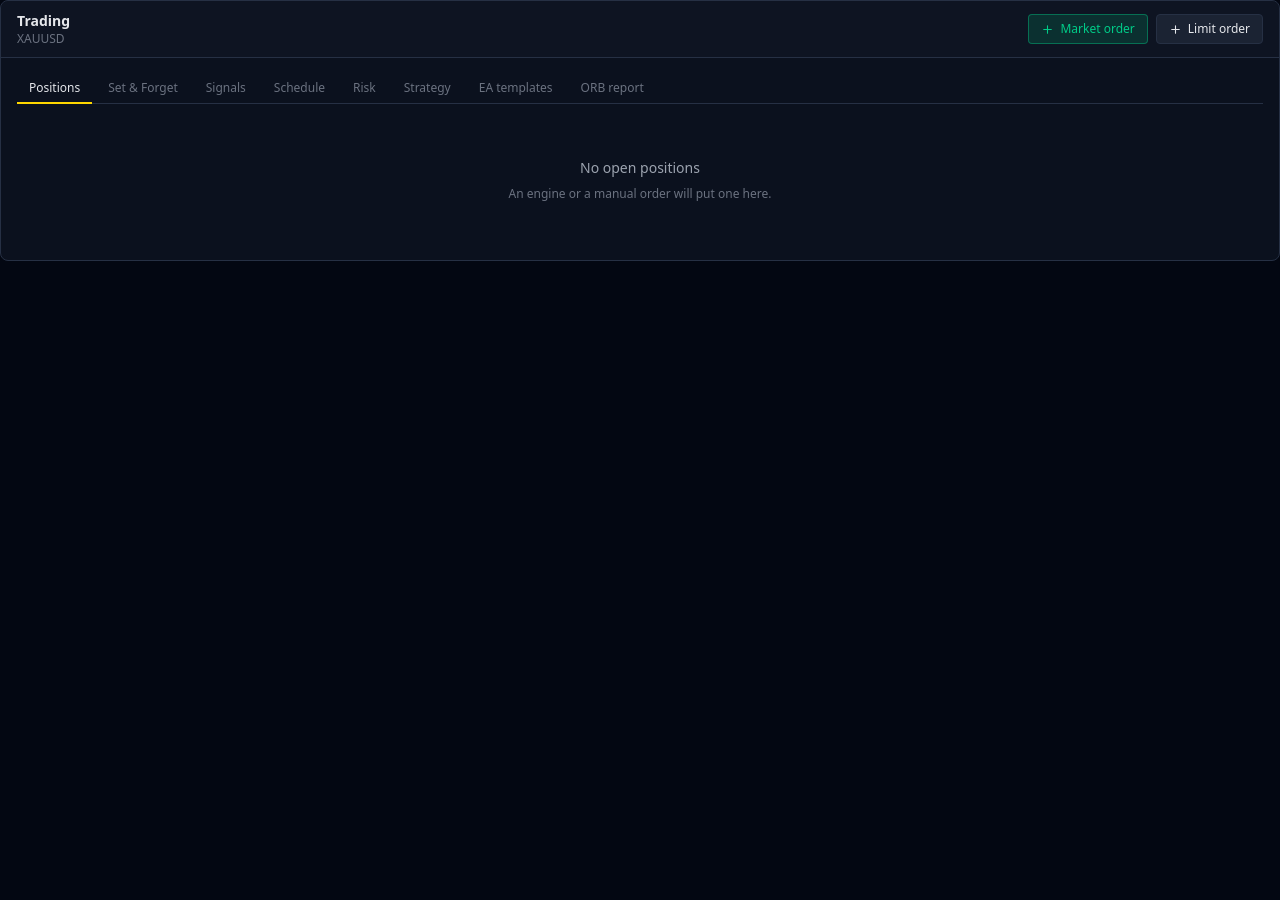
Test case: the schedule › says which clock the windows are measured in
Click the tab "Schedule".
click(299, 89)  # box [262, 74, 337, 104]
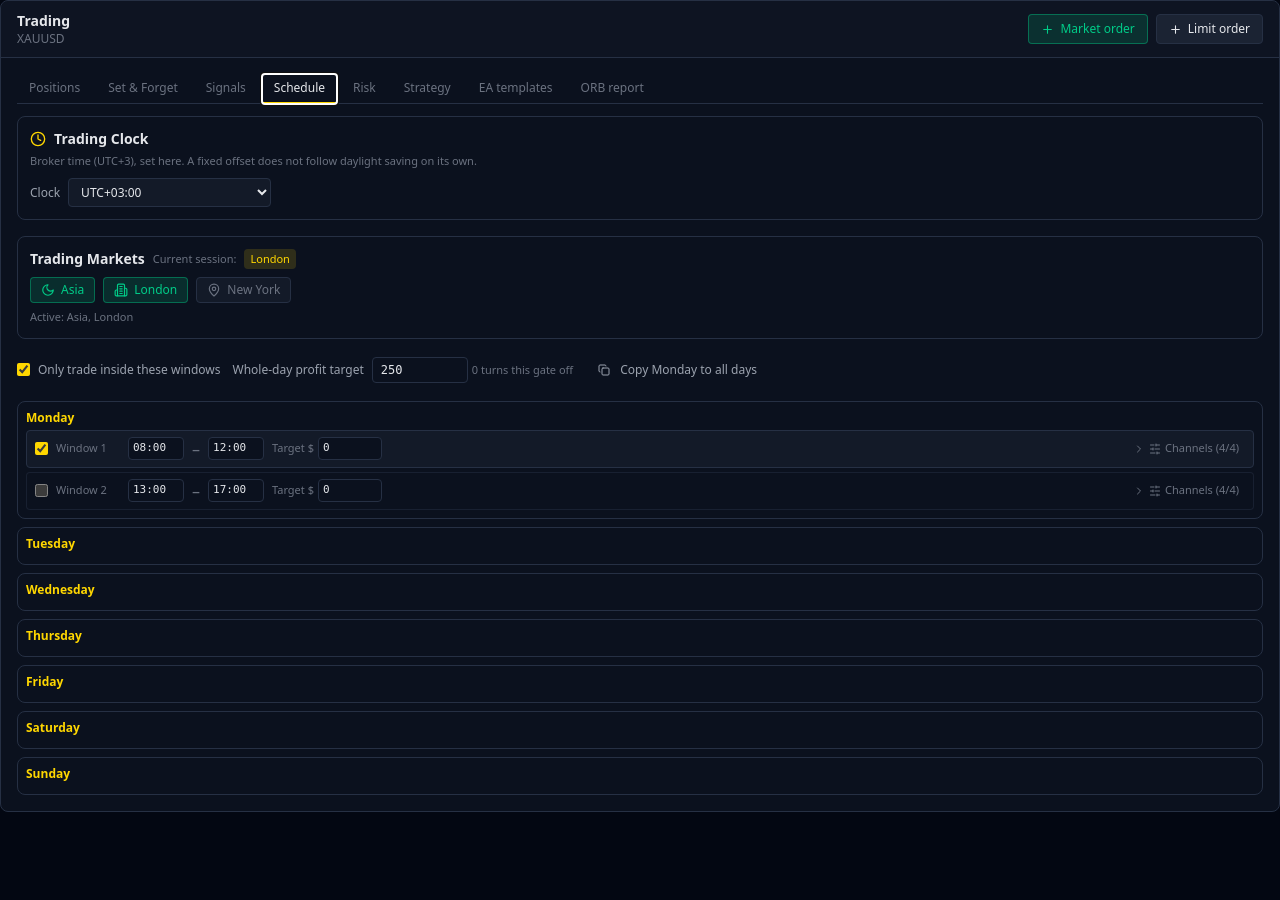
Now the text "Broker time (UTC+3)" is shown, box [30, 153, 134, 168]
